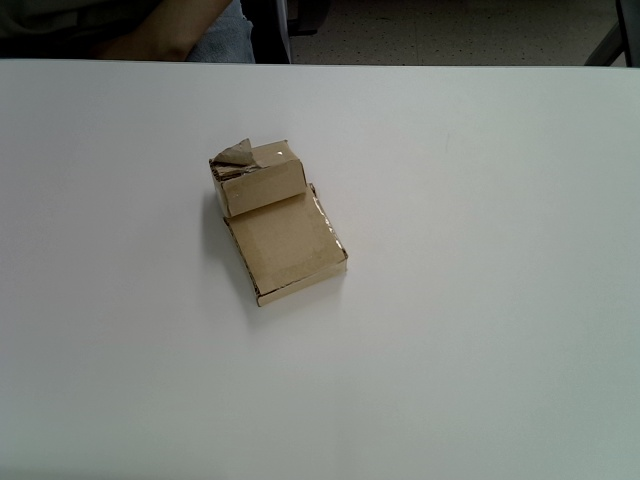defect: (209, 136, 307, 217)
normal: (222, 182, 348, 306)
